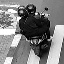motor: (18, 3, 53, 55)
